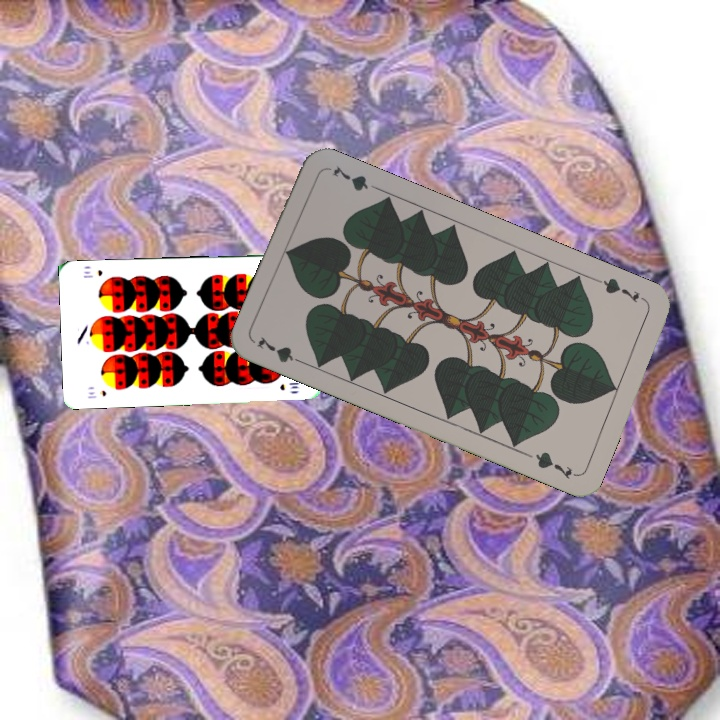G7: (252, 332, 309, 368), (592, 273, 642, 306)
S10: (84, 386, 108, 401)
